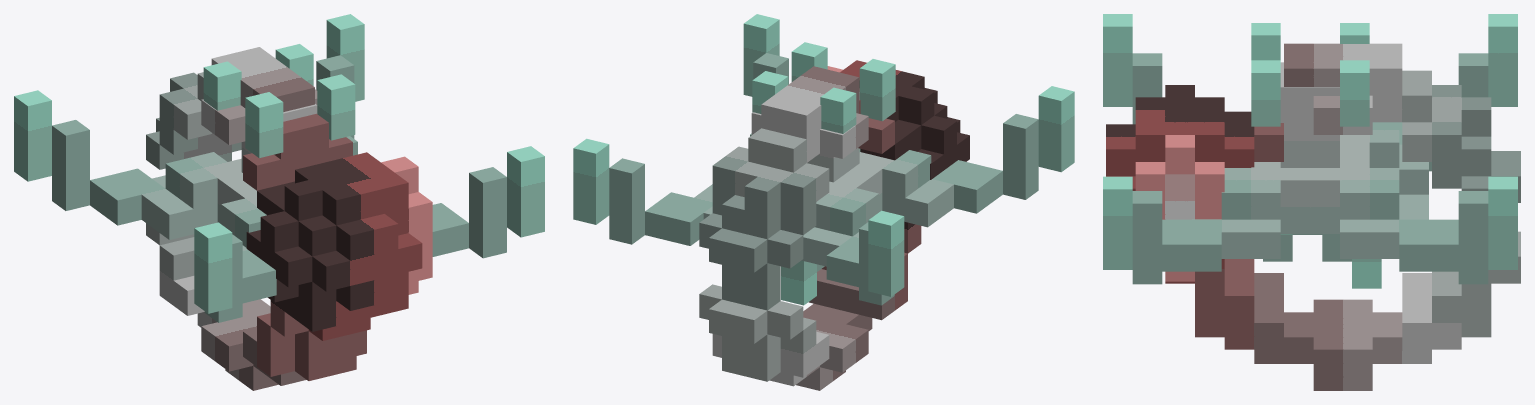
File: can_st_angel.fbx
3 views of the same model, side by side, from view 1: azimuth 30°, elevation 25°; view 2: azimuth 150°, elevation 25°; view 3: azimuth 270°, elevation 25° (orthographic). The views are drawn at different scales.
Visible parts, largest first — view 1: can_standart_angel-1, can_standart_angel-2; view 2: can_standart_angel-1, can_standart_angel-2, can_standart_angel-0; view 3: can_standart_angel-1, can_standart_angel-2, can_standart_angel-0.
Boxes of the visible parts, x1,y1,x2,y2 form: can_standart_angel-1: (146,47,432,390); can_standart_angel-2: (14,14,544,322); can_standart_angel-1: (699,60,969,390); can_standart_angel-2: (573,14,1074,305); can_standart_angel-0: (781,149,860,305); can_standart_angel-1: (1106,43,1520,390); can_standart_angel-2: (1103,14,1517,284); can_standart_angel-0: (1263,234,1381,288).
Bounding box in the file's own units: 140 × 123 × 141.
Materials: 1 (1 with a texture image).
